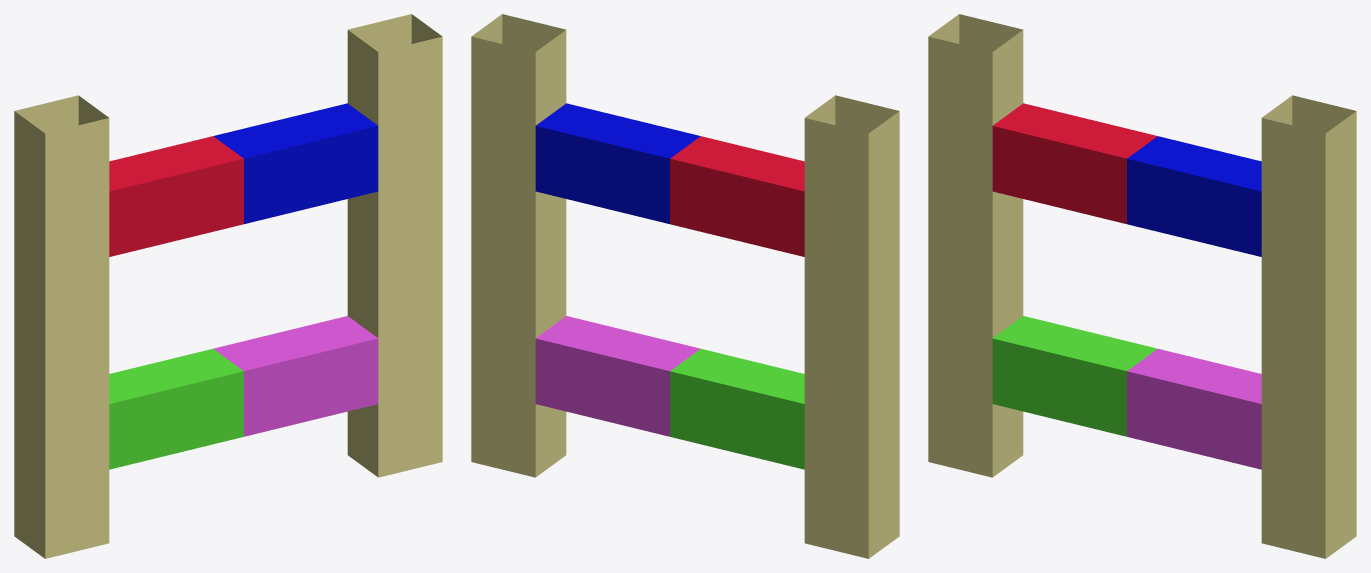
File: model_dna.glb
3 renders of one model, left to right at view 1: azimuth 30°, elevation 25°; view 2: azimuth 150°, elevation 25°; view 3: azimuth 330°, elevation 25°, orthographic.
Visible parts, largest first — view 1: Cube; view 2: Cube; view 3: Cube.
Boxes of the visible parts, bbox=[...] form: Cube: bbox=[14, 14, 442, 558]; Cube: bbox=[471, 14, 899, 558]; Cube: bbox=[928, 14, 1356, 558].
Bounding box in the file's own units: 1.77 × 1.81 × 0.238.
